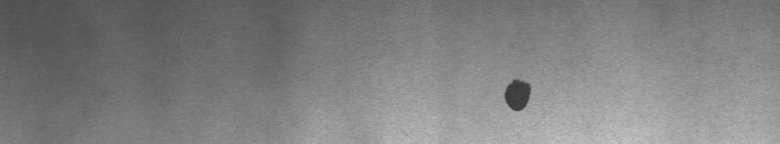fi: (497, 72, 539, 120)
